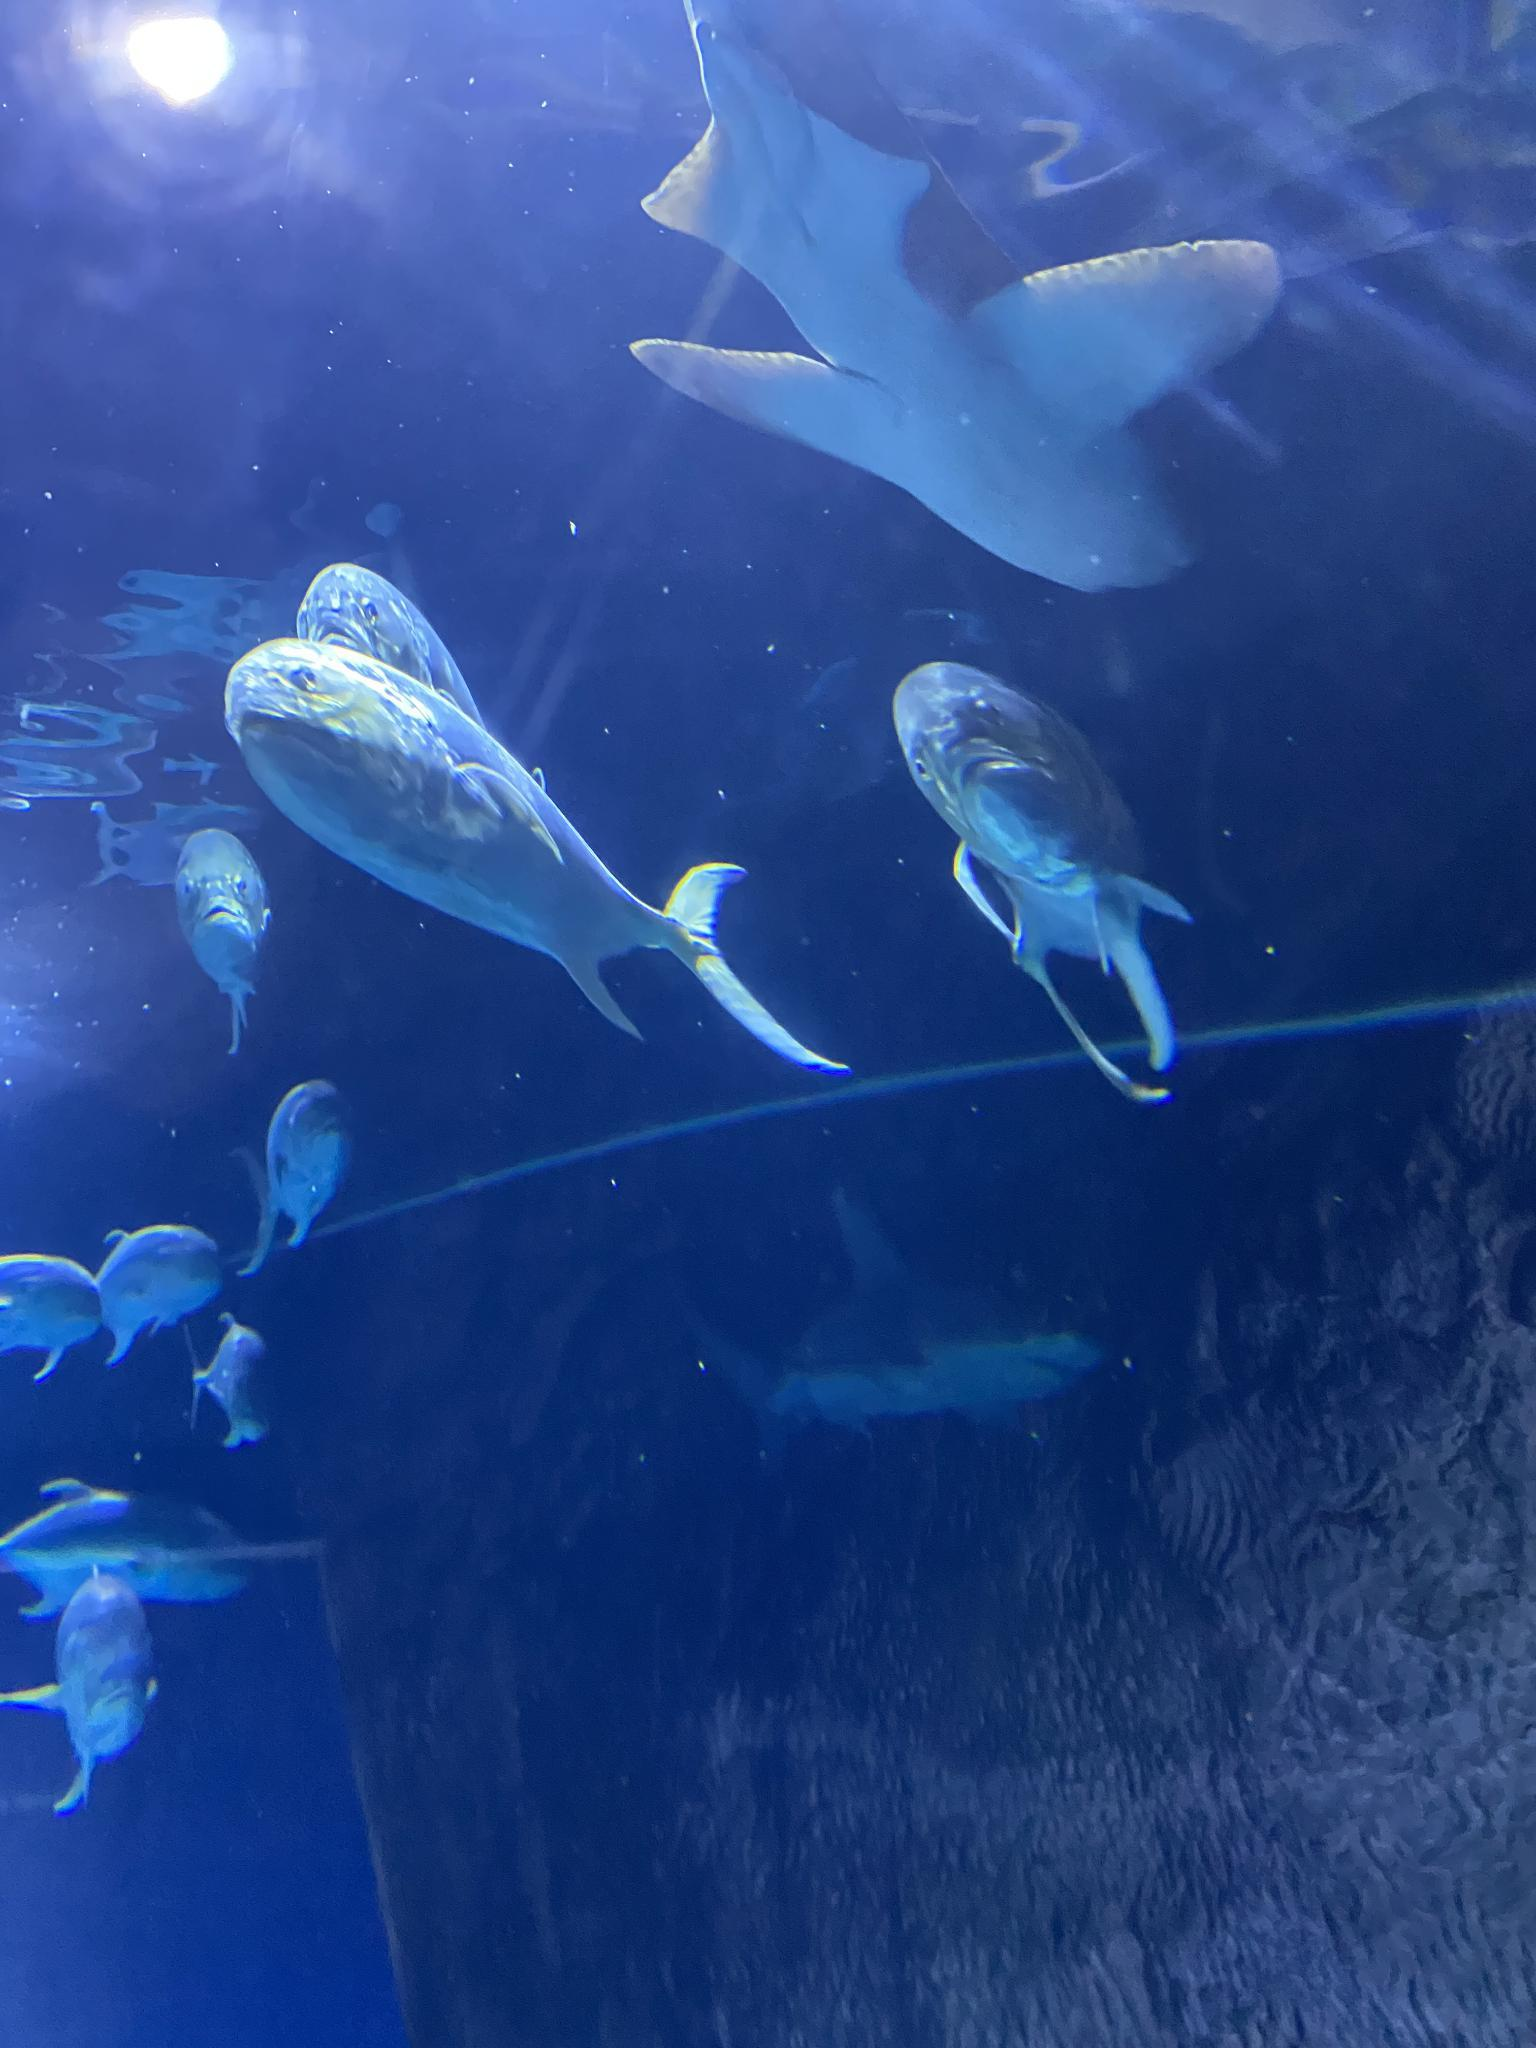fish: (216, 656, 841, 1092), (874, 647, 1234, 1066), (266, 572, 566, 826), (0, 1476, 286, 1609), (27, 1564, 177, 1804), (242, 1076, 366, 1268), (65, 1213, 232, 1355), (186, 824, 286, 1013), (0, 1237, 118, 1393), (181, 1332, 315, 1459)
shark: (603, 15, 1271, 597), (678, 1193, 1105, 1450)
